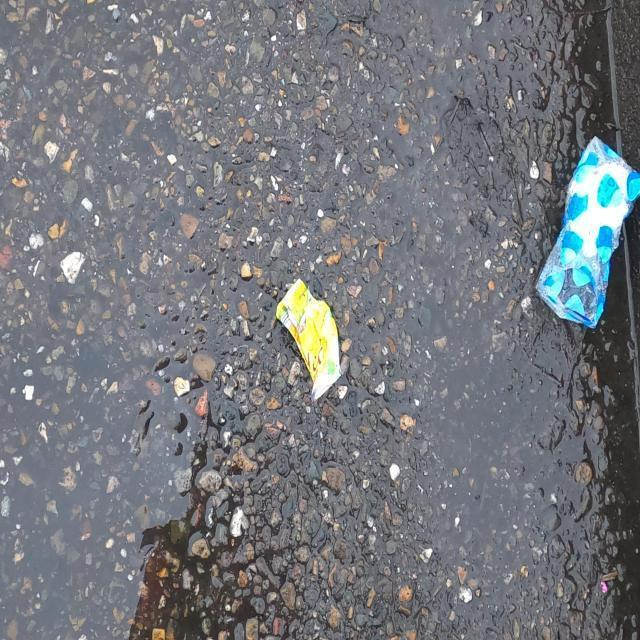Plastic: (534, 134, 640, 330), (275, 276, 343, 404)
